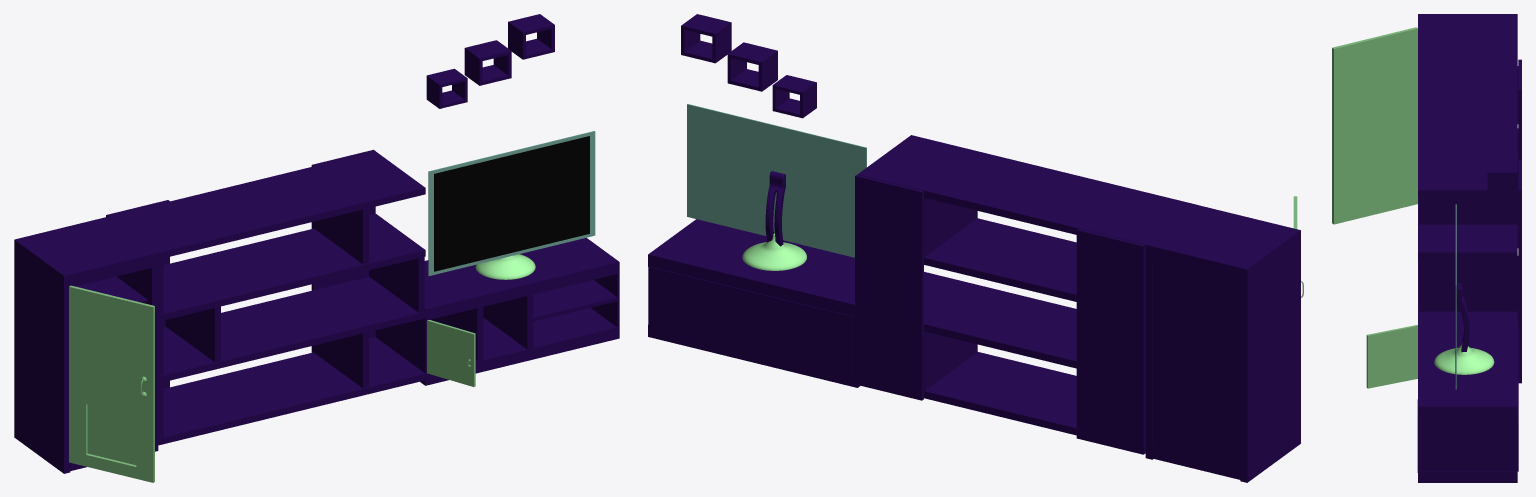
The model's file is furniture_xena.obj.
3 renders of one model, left to right at view 1: azimuth 30°, elevation 25°; view 2: azimuth 150°, elevation 25°; view 3: azimuth 270°, elevation 25°, orthographic. The views are drawn at different scales.
Parts seen in each view (by area): view 1: tablon_estante_superior, pantalla, pomo_armario_grande, pomo_armario_peque_o, soporte_pantalla, sup_caja_med002, sup_caja_grande003, sup_caja_peqe001, base_televisor; view 2: tablon_estante_superior, soporte_pantalla, sup_caja_med002, sup_caja_grande003, sup_caja_peqe001, base_televisor, soporte_televisor; view 3: tablon_estante_superior, pomo_armario_grande, pomo_armario_peque_o, base_televisor, sup_caja_grande003, soporte_televisor, soporte_pantalla.
Boxes of the visible parts, x1,y1,x2,y2 form: tablon_estante_superior: (14,149,619,473); pantalla: (434,136,589,271); pomo_armario_grande: (69,285,154,482); pomo_armario_peque_o: (427,320,475,386); soporte_pantalla: (428,131,595,275); sup_caja_med002: (464,40,511,85); sup_caja_grande003: (508,14,554,59); sup_caja_peqe001: (426,68,467,108); base_televisor: (475,254,535,279); tablon_estante_superior: (648,135,1300,482); soporte_pantalla: (687,104,866,257); sup_caja_med002: (727,42,777,91); sup_caja_grande003: (681,14,731,63); sup_caja_peqe001: (772,75,816,118); base_televisor: (742,233,806,270); soporte_televisor: (765,171,785,246); tablon_estante_superior: (1417,14,1521,482); pomo_armario_grande: (1332,27,1417,224); pomo_armario_peque_o: (1366,325,1417,388); base_televisor: (1434,343,1494,374); sup_caja_grande003: (1487,157,1516,199); soporte_televisor: (1456,283,1469,352); soporte_pantalla: (1455,204,1456,389).
Size of the model in its own units: 528 by 269 by 156.
